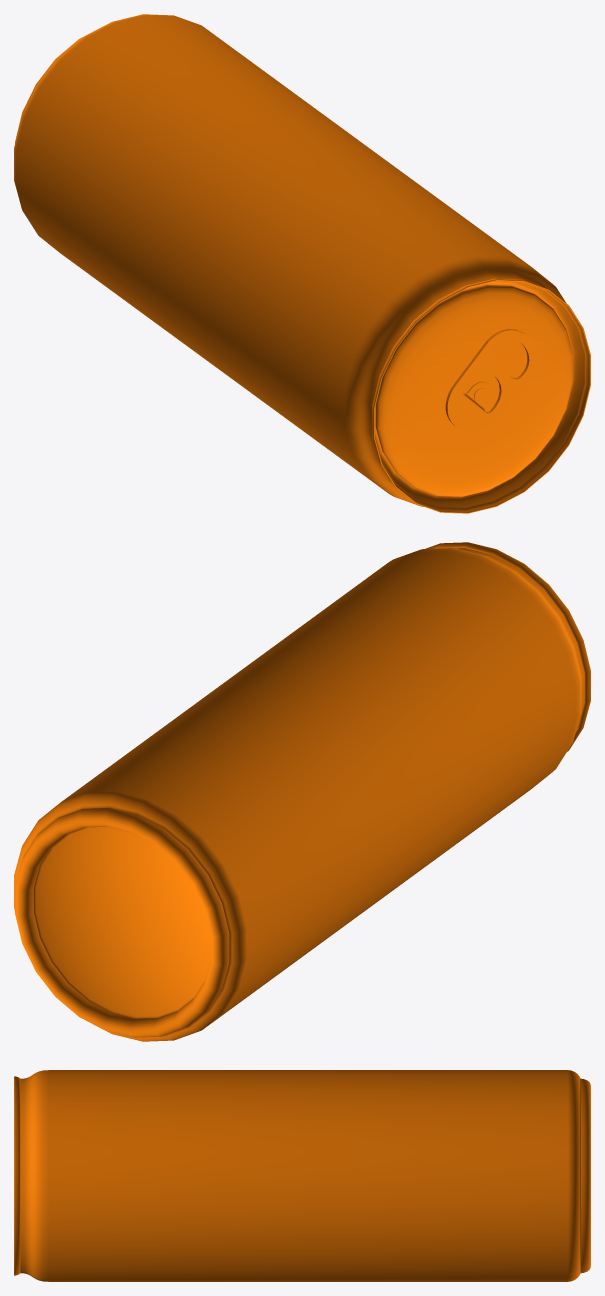
File: model_align.obj
3 renders of one model, top to bottom at view 1: azimuth 30°, elevation 25°; view 2: azimuth 150°, elevation 25°; view 3: azimuth 270°, elevation 25°, orthographic. The views are drawn at different scales.
Visible parts, largest first — view 1: mesh1_mesh1-geometry, mesh5_mesh5-geometry; view 2: mesh1_mesh1-geometry; view 3: mesh1_mesh1-geometry.
Part boxes in pixels (bbox=[...]): mesh1_mesh1-geometry: bbox=[14, 14, 590, 513]; mesh5_mesh5-geometry: bbox=[445, 329, 537, 432]; mesh1_mesh1-geometry: bbox=[14, 542, 590, 1041]; mesh1_mesh1-geometry: bbox=[14, 1070, 590, 1281].
Size of the model in its own units: 0.0583 by 0.0583 by 0.1602.
